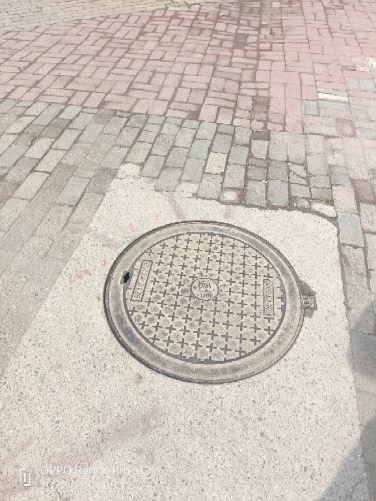well: (101, 219, 311, 381)
